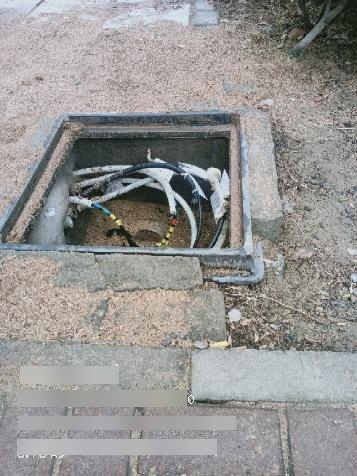lose: (3, 109, 252, 264)
